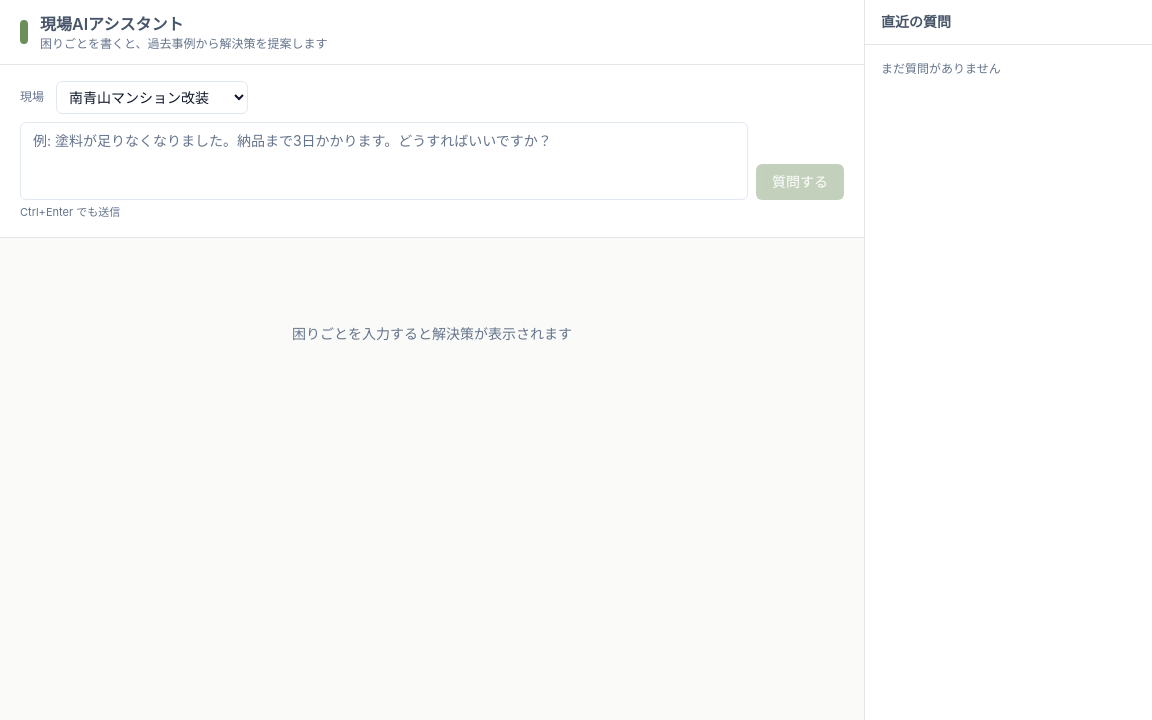
Test: SiteAssistantPage › 「質問する」ボタンクリックで Solution カードが表示される
Type "足りない 在庫がない" into the text box at (384, 161), box x1=20 y1=122 x2=748 y2=200
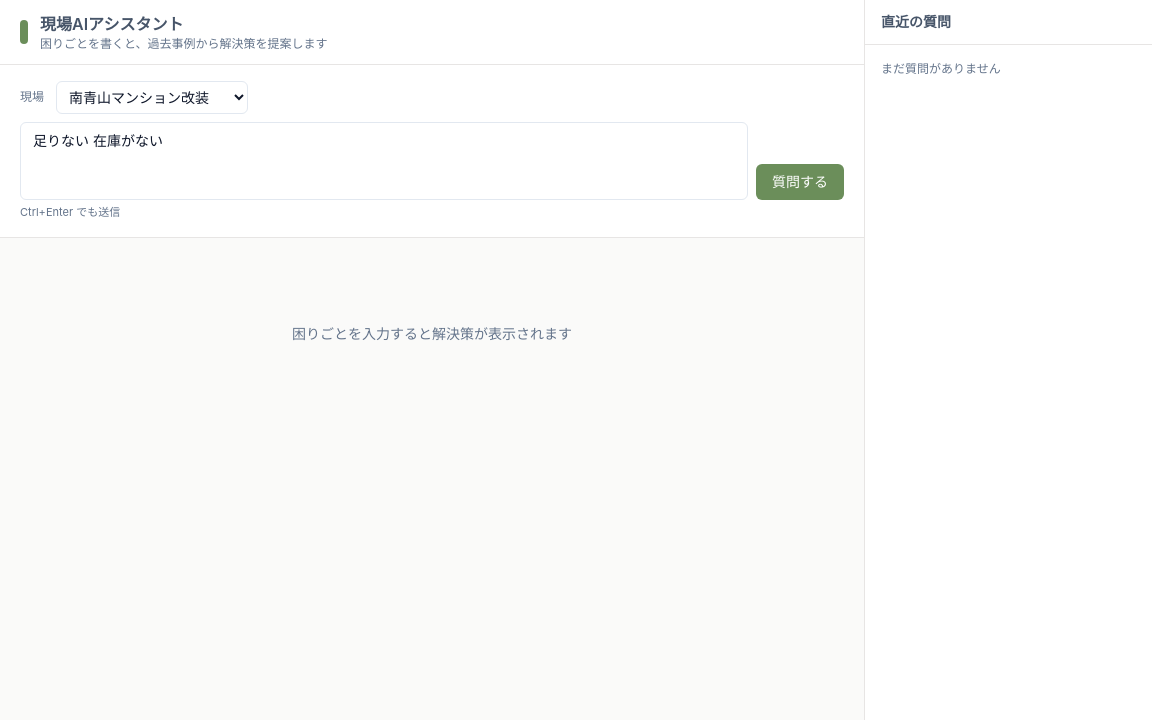
Click the button "質問する" at (800, 182), box x1=756 y1=164 x2=844 y2=200
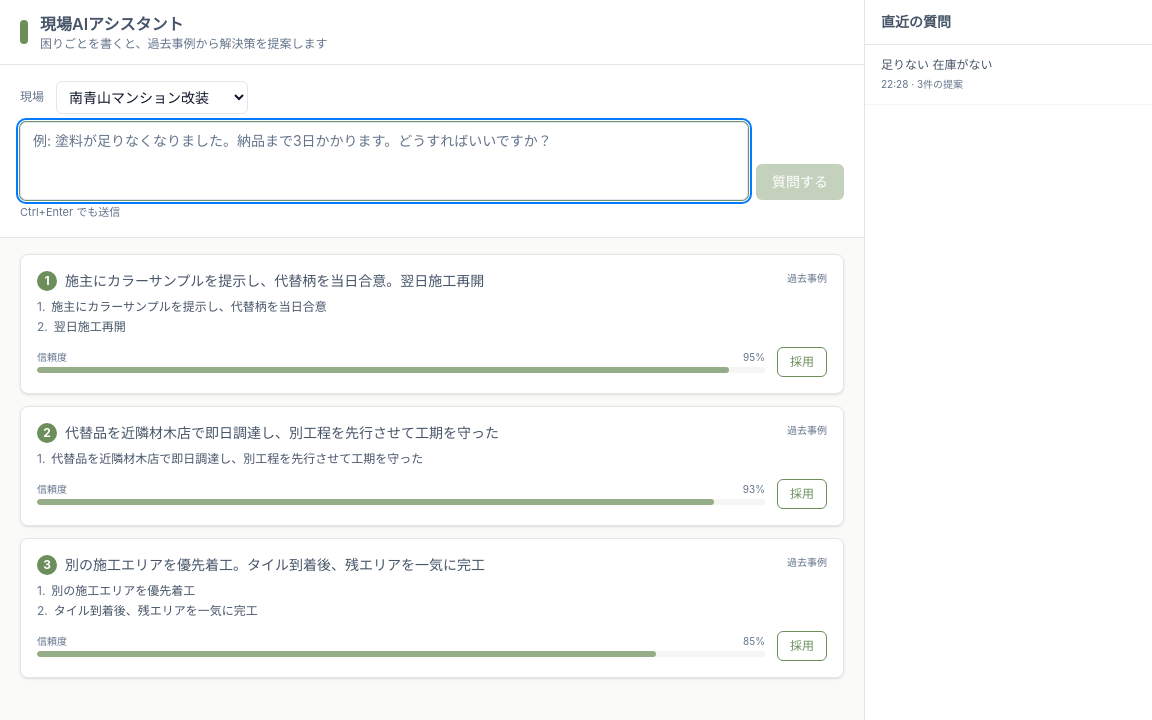
Expected: the button "採用" next to "95" is shown, x1=777 y1=346 x2=827 y2=376
